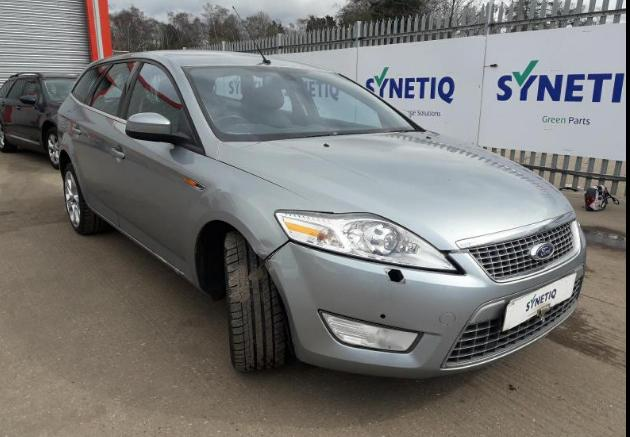Back-door: (69, 58, 139, 226)
Back-wheel: (65, 163, 113, 234)
Back-window: (91, 62, 137, 116), (73, 66, 105, 100)
Fender: (183, 156, 331, 284)
Front-bumper: (262, 223, 586, 376)
Front-door: (110, 59, 204, 271)
Front-wheel: (224, 228, 288, 373)
Front-window: (125, 63, 194, 133)
Grille: (445, 266, 582, 366), (466, 220, 578, 281)
Headlight: (274, 211, 457, 273)
Hood: (216, 131, 575, 251)
License-plate: (503, 274, 575, 331)
Mirror: (125, 113, 191, 143)
Quarter-panel: (58, 93, 82, 156)
Rocker-panel: (86, 203, 204, 294)
Roof: (102, 50, 329, 70)
Windshield: (183, 66, 416, 141)
